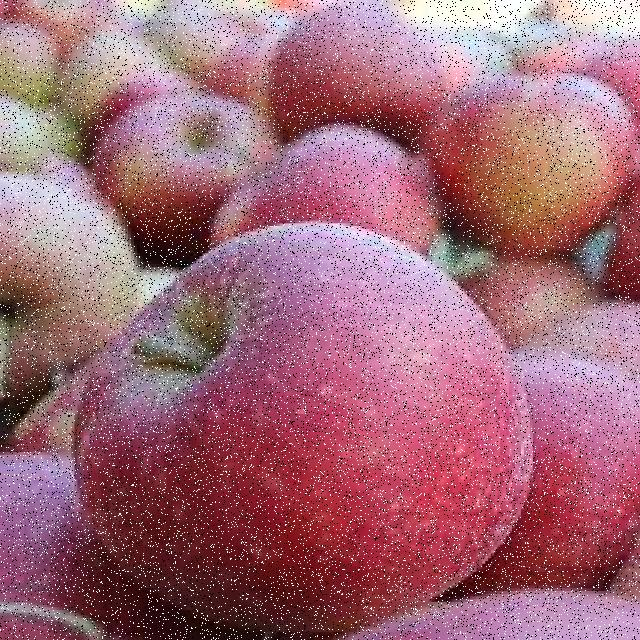Apple: (69, 222, 537, 634), (206, 121, 448, 259), (440, 83, 635, 245)
